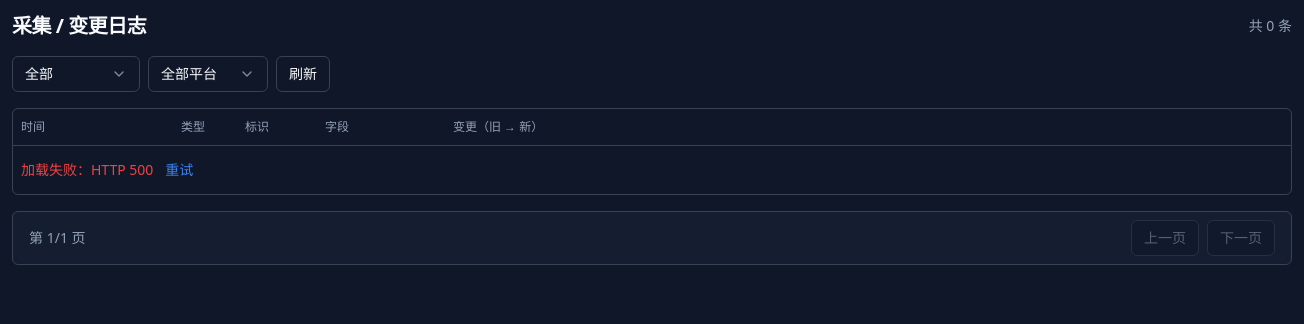
Scenario: 错误行 + 重试恢复
Expected: the text "加载失败：HTTP 500 重试" is shown, left=13, top=145, right=1291, bottom=194
Click the button "重试": coordinates (179, 170) left=153, top=152, right=205, bottom=188
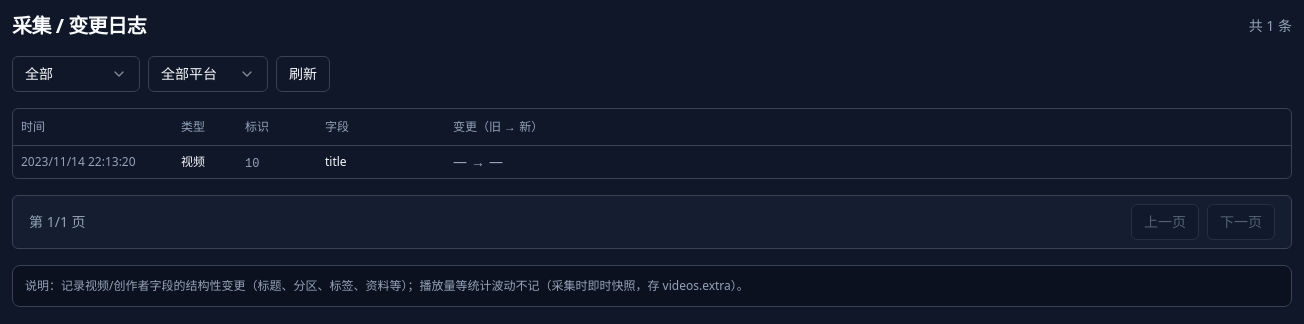
Expected: the text "说明：记录视频" is shown, left=25, top=276, right=749, bottom=294
